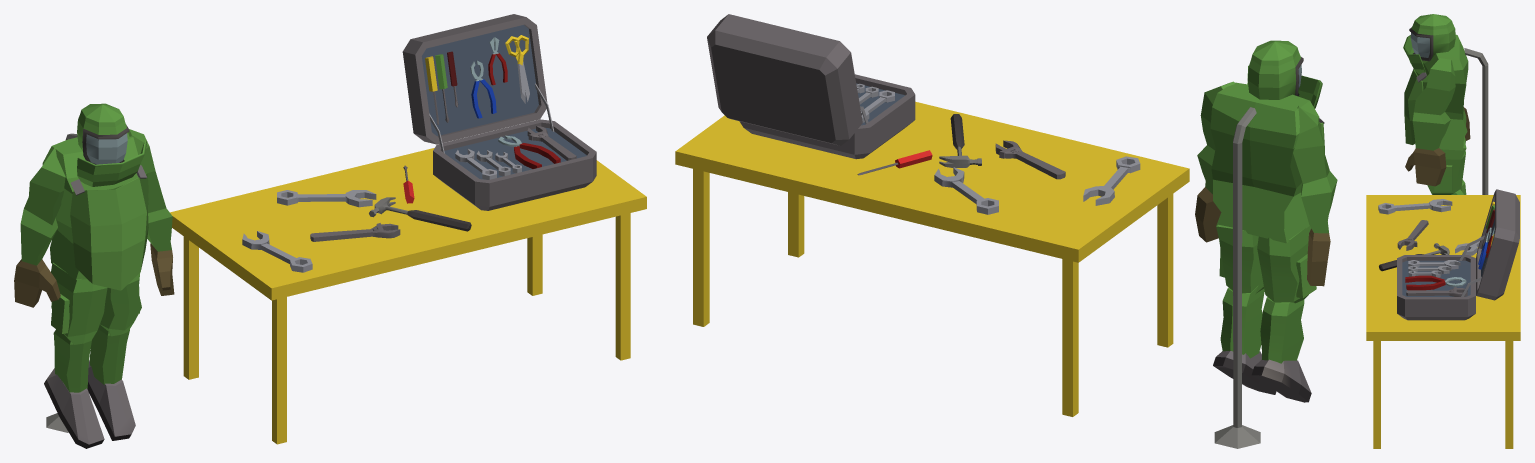
File: g_o_BombDefusalKit.fbx
3 views of the same model, side by side, from view 1: azimuth 30°, elevation 25°; view 2: azimuth 150°, elevation 25°; view 3: azimuth 270°, elevation 25° (orthographic). The views are drawn at different scales.
Visible parts, largest first — view 1: bomb_defuse_kit; view 2: bomb_defuse_kit; view 3: bomb_defuse_kit.
Part boxes in pixels (x1=…): bomb_defuse_kit: x1=14, y1=14, x2=646, y2=448; bomb_defuse_kit: x1=675, y1=14, x2=1337, y2=448; bomb_defuse_kit: x1=1366, y1=14, x2=1520, y2=448.
Bounding box in the file's own units: 2.74 × 1.58 × 0.8628.
